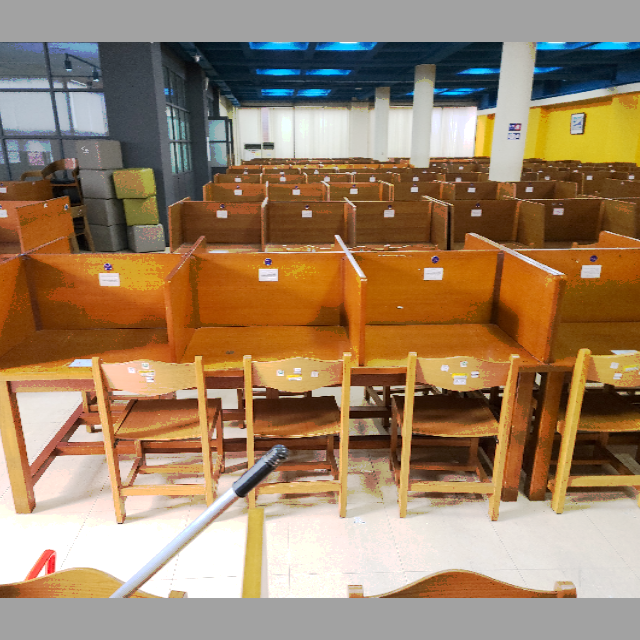empty: (369, 239, 550, 469), (175, 242, 362, 456), (1, 246, 170, 467)
